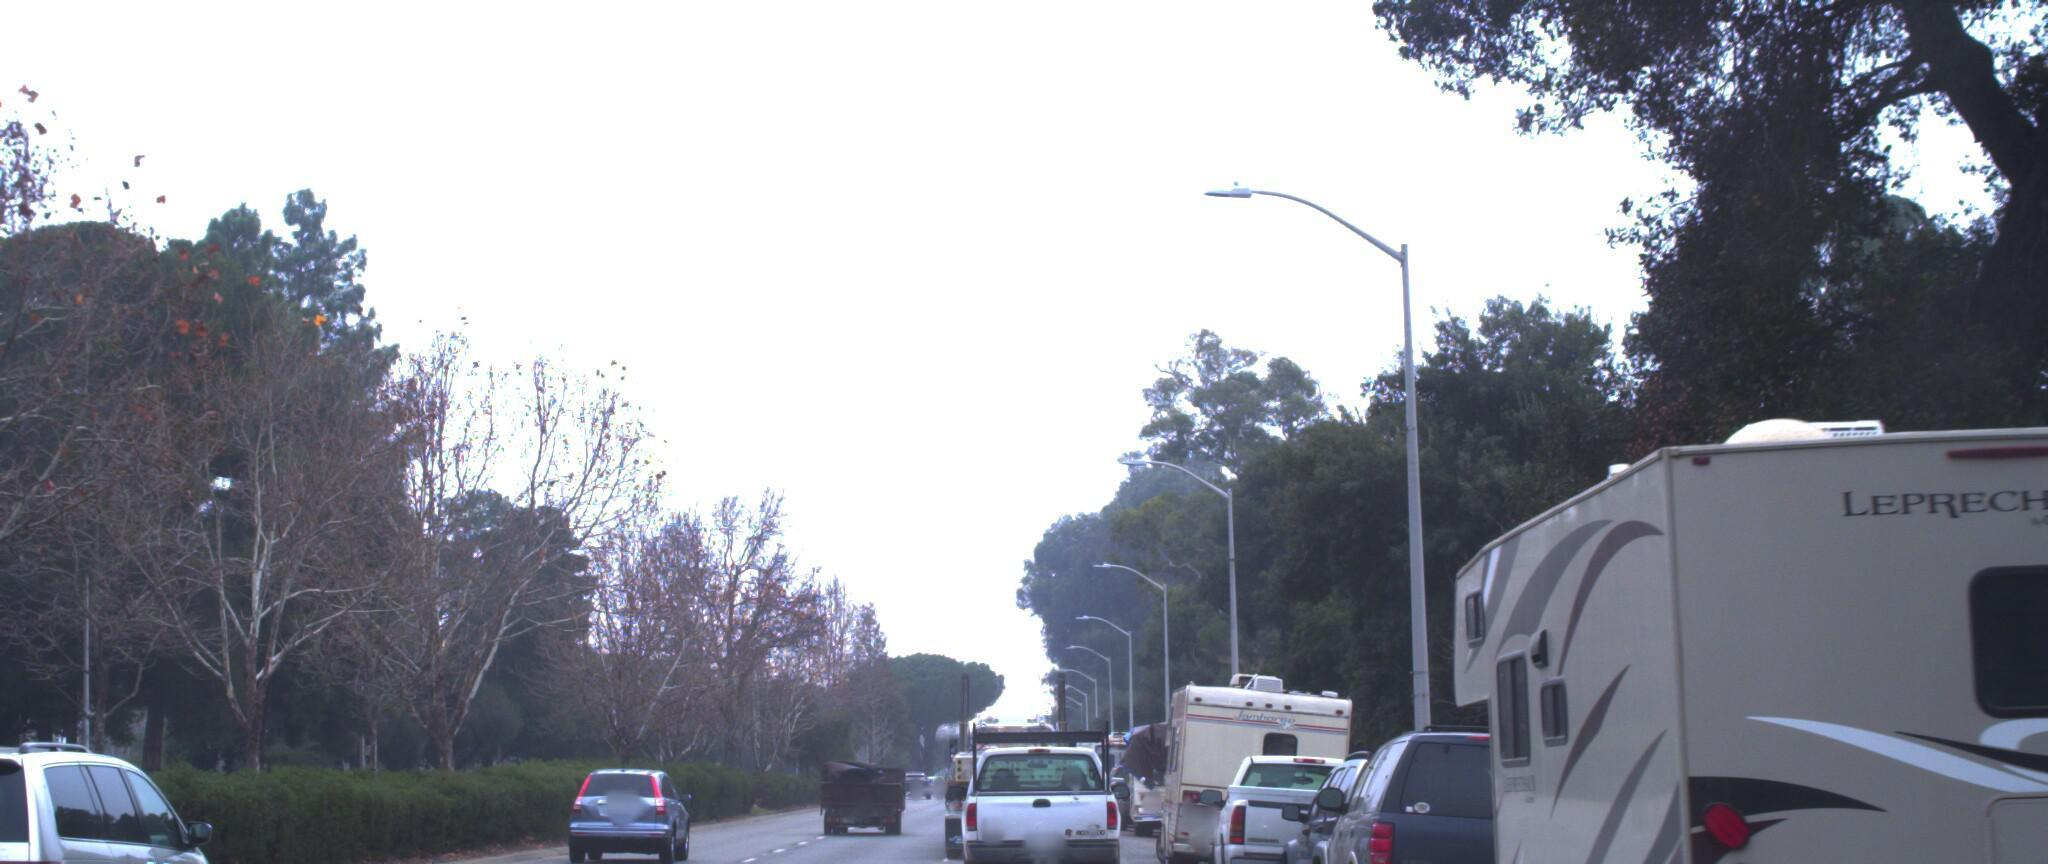car: (1294, 707, 1625, 864), (0, 707, 242, 864), (1243, 731, 1516, 864), (946, 706, 1128, 864), (1190, 733, 1398, 864), (552, 769, 688, 864), (814, 747, 913, 826), (1947, 809, 2048, 864)
other_vehicle: (1405, 345, 2048, 864), (1138, 650, 1358, 864), (1105, 717, 1215, 824)
truck: (961, 658, 1085, 830)
